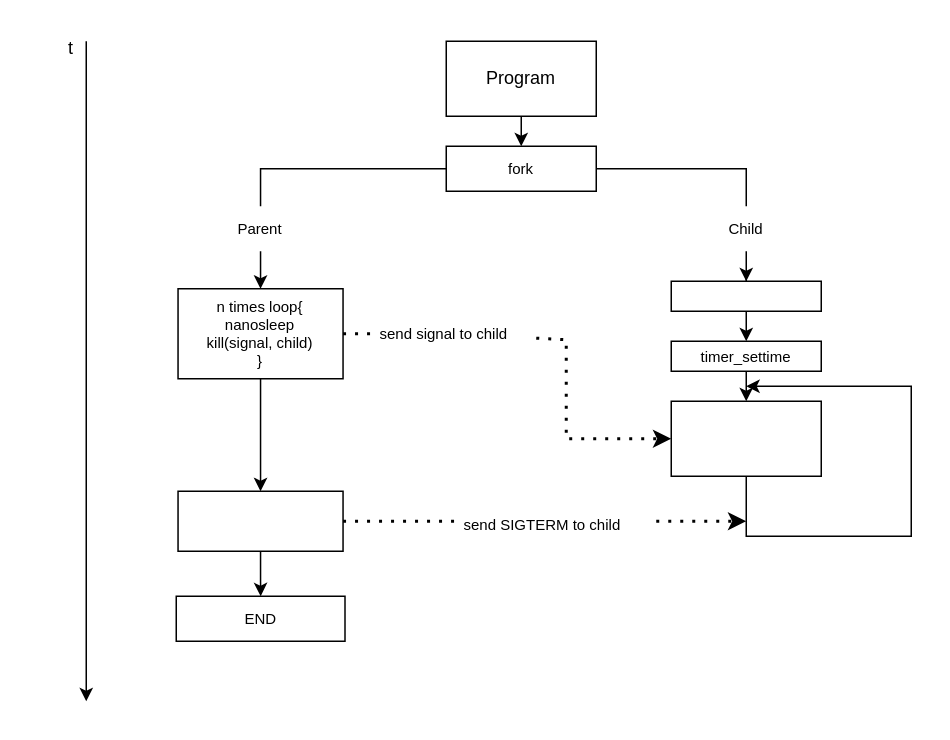
Image size: 950x740. Some labels were removed from this diagram. Here are the shapes that lost their labels. From the top down, the box of each, then its label:
(670, 280, 821, 311): time_create
(670, 400, 821, 476): infinite loop{ nanosleep }
(177, 490, 343, 551): kill(SIGTERM, child)
